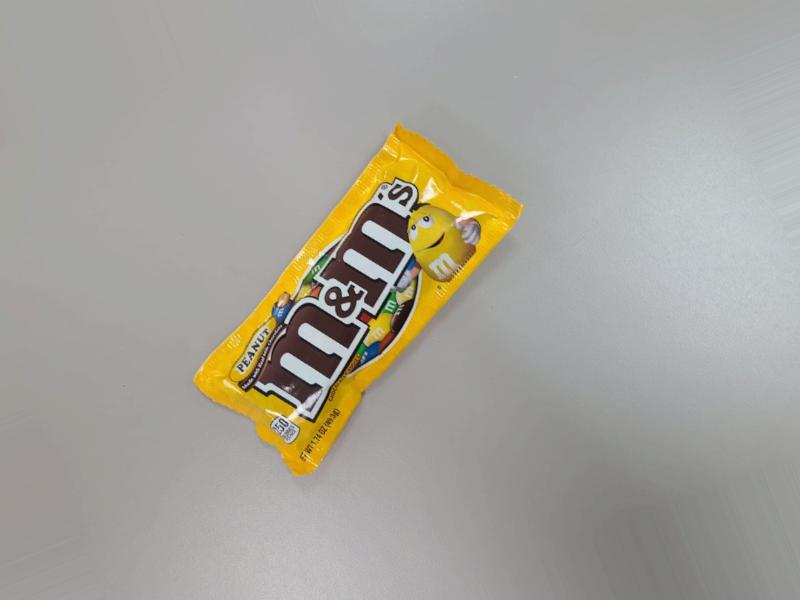m&m: (196, 111, 512, 485)
